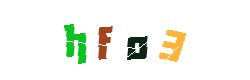3: (104, 0, 184, 80)
F: (85, 0, 165, 80)
H: (35, 0, 115, 80)
O: (97, 0, 177, 80)
